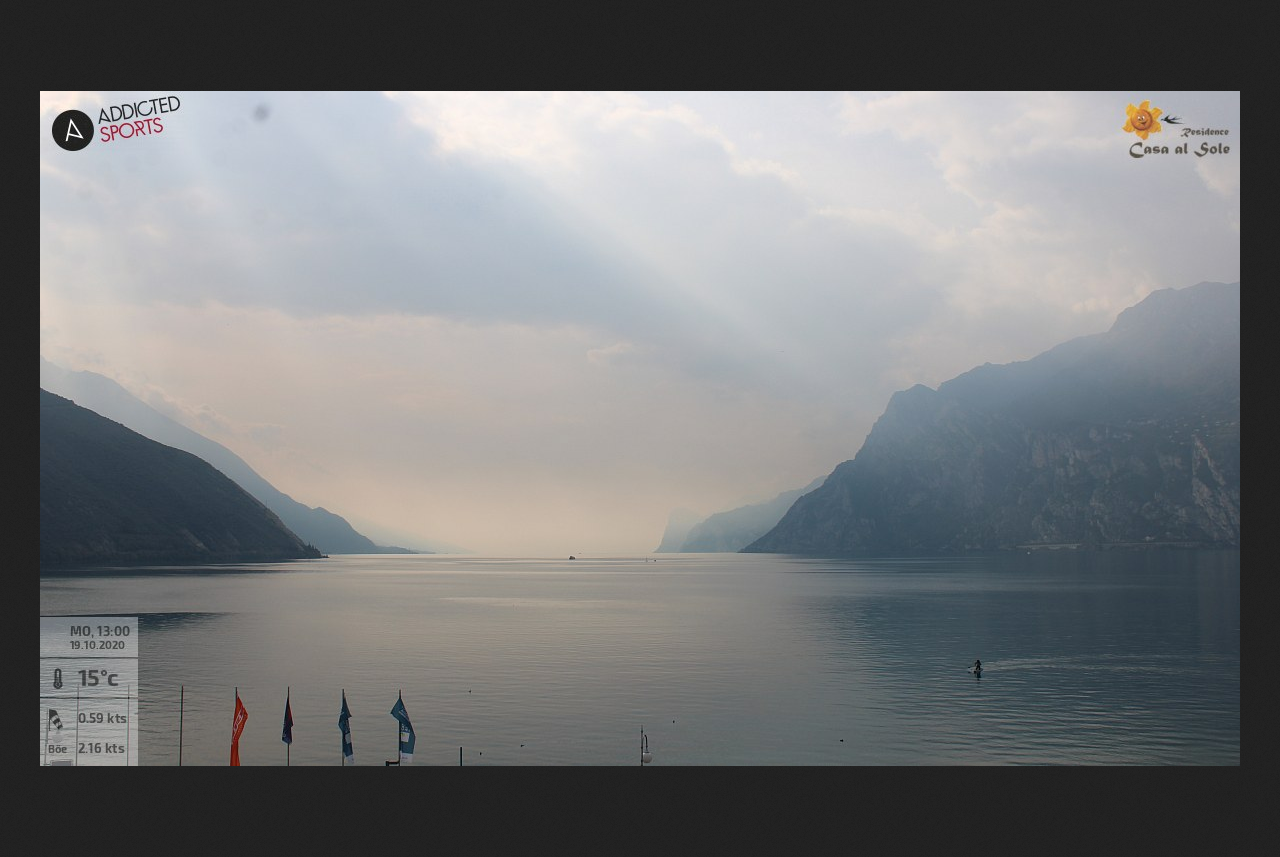no: (282, 694, 294, 742)
